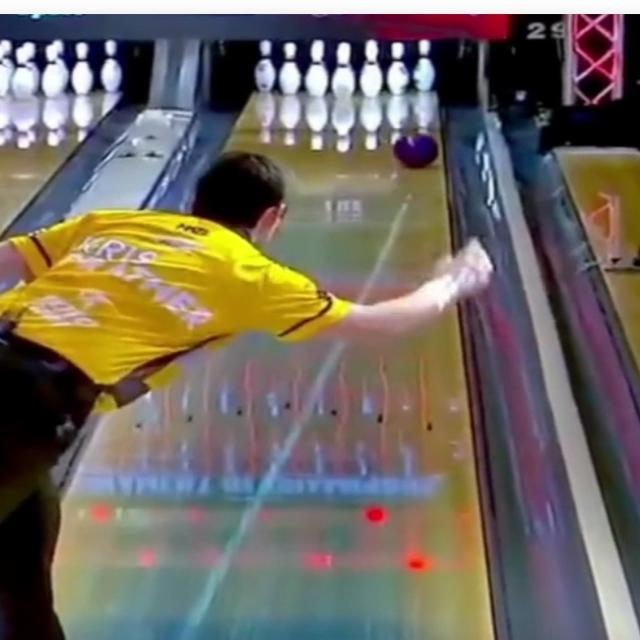alley: (55, 306, 491, 639), (229, 90, 449, 302)
balls: (393, 133, 437, 168)
bottle: (254, 40, 434, 97)
